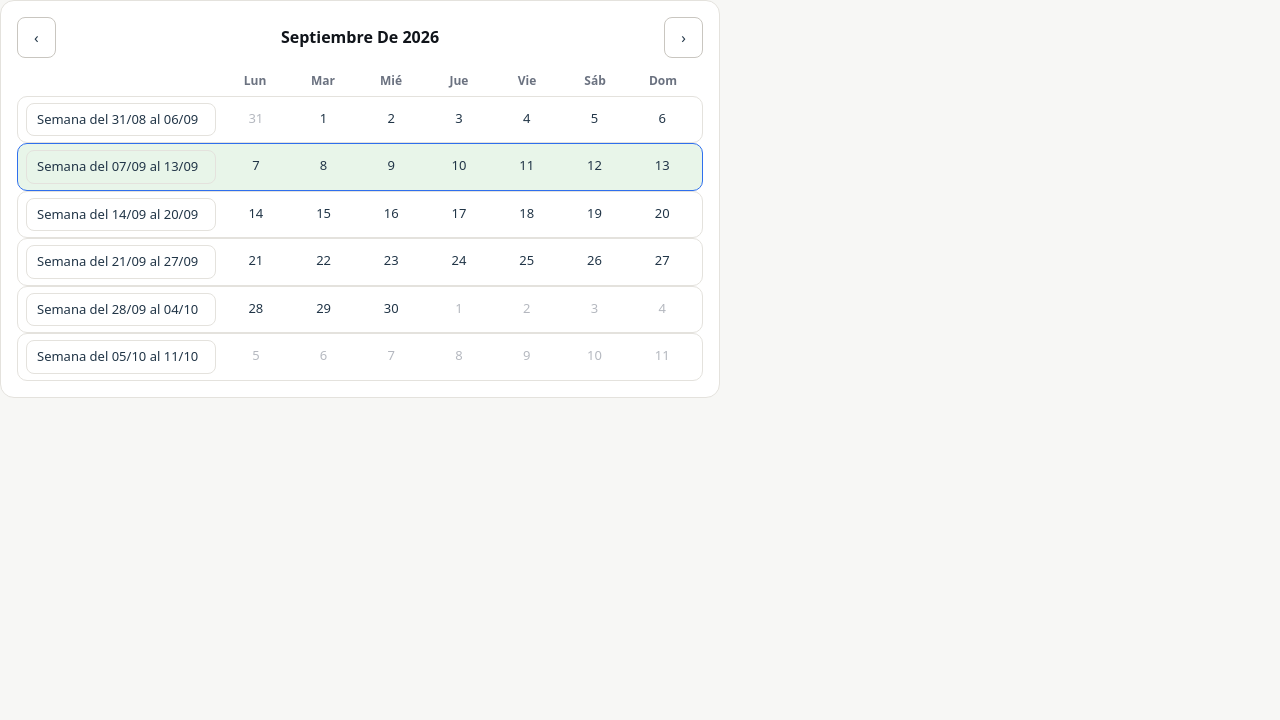
Scenario: MonthCalendar (cabeceras, popup de mes y fechas rellenadas) › la etiqueta del mes abre un popup para navegar por año y elegir mes
This screenshot has width=1280, height=720.
Click the button "septiembre de 2026" at point(360, 37), box [271,21,449,53]
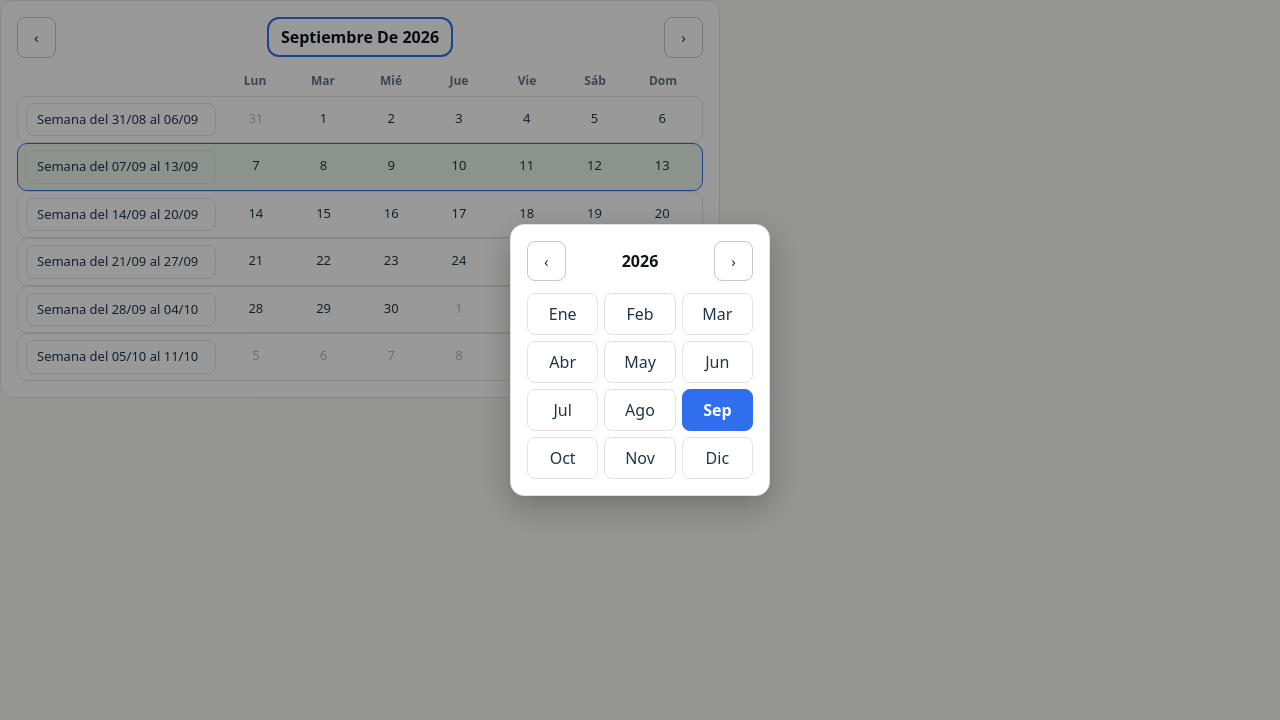
Check: the dialog named "Elegir mes" is shown, box [510,224,770,496]
# Navegación de año dentro del popup.
Click the button named "Año siguiente" at point(734, 261), box [714,241,753,281]
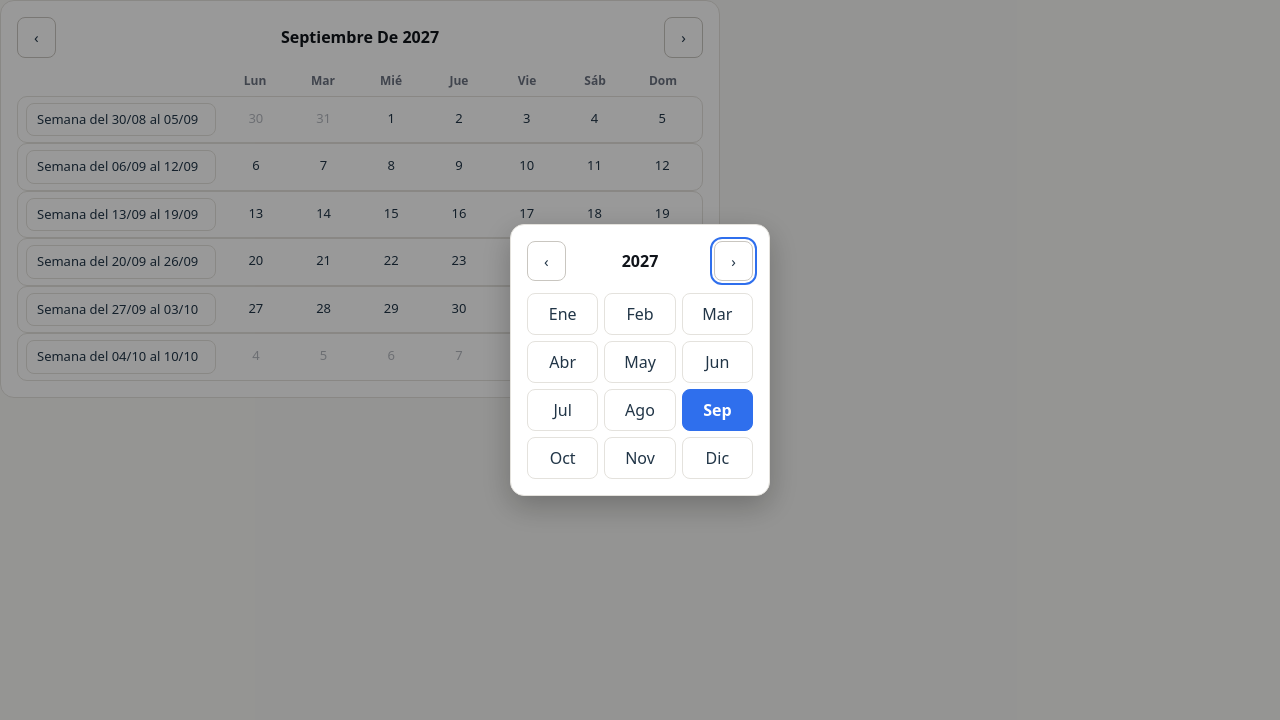
Check: the text "2027" is shown, box [622,249,658,273]
# Elegir un mes cierra el popup y fija la vista.
Click the button "Oct" at point(563, 458), box [527,437,598,479]
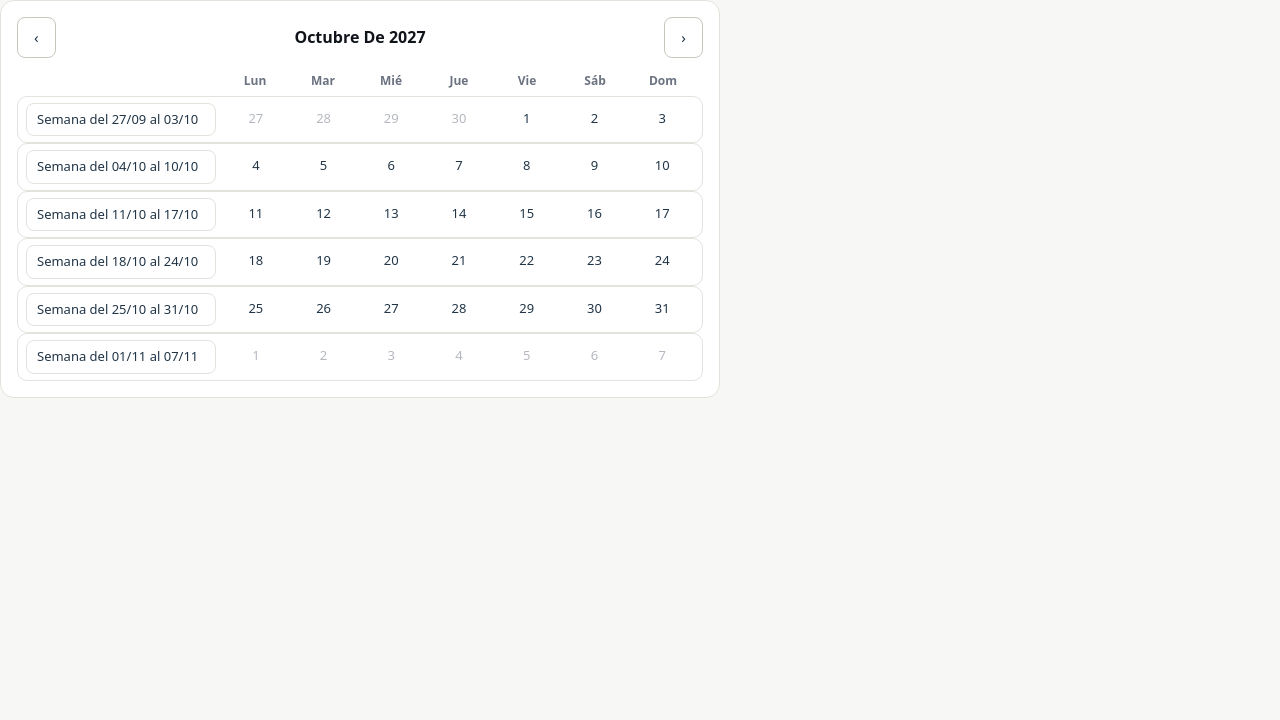
Check: the dialog is gone
Check: the button "octubre de 2027" is shown, box [284,21,436,53]
